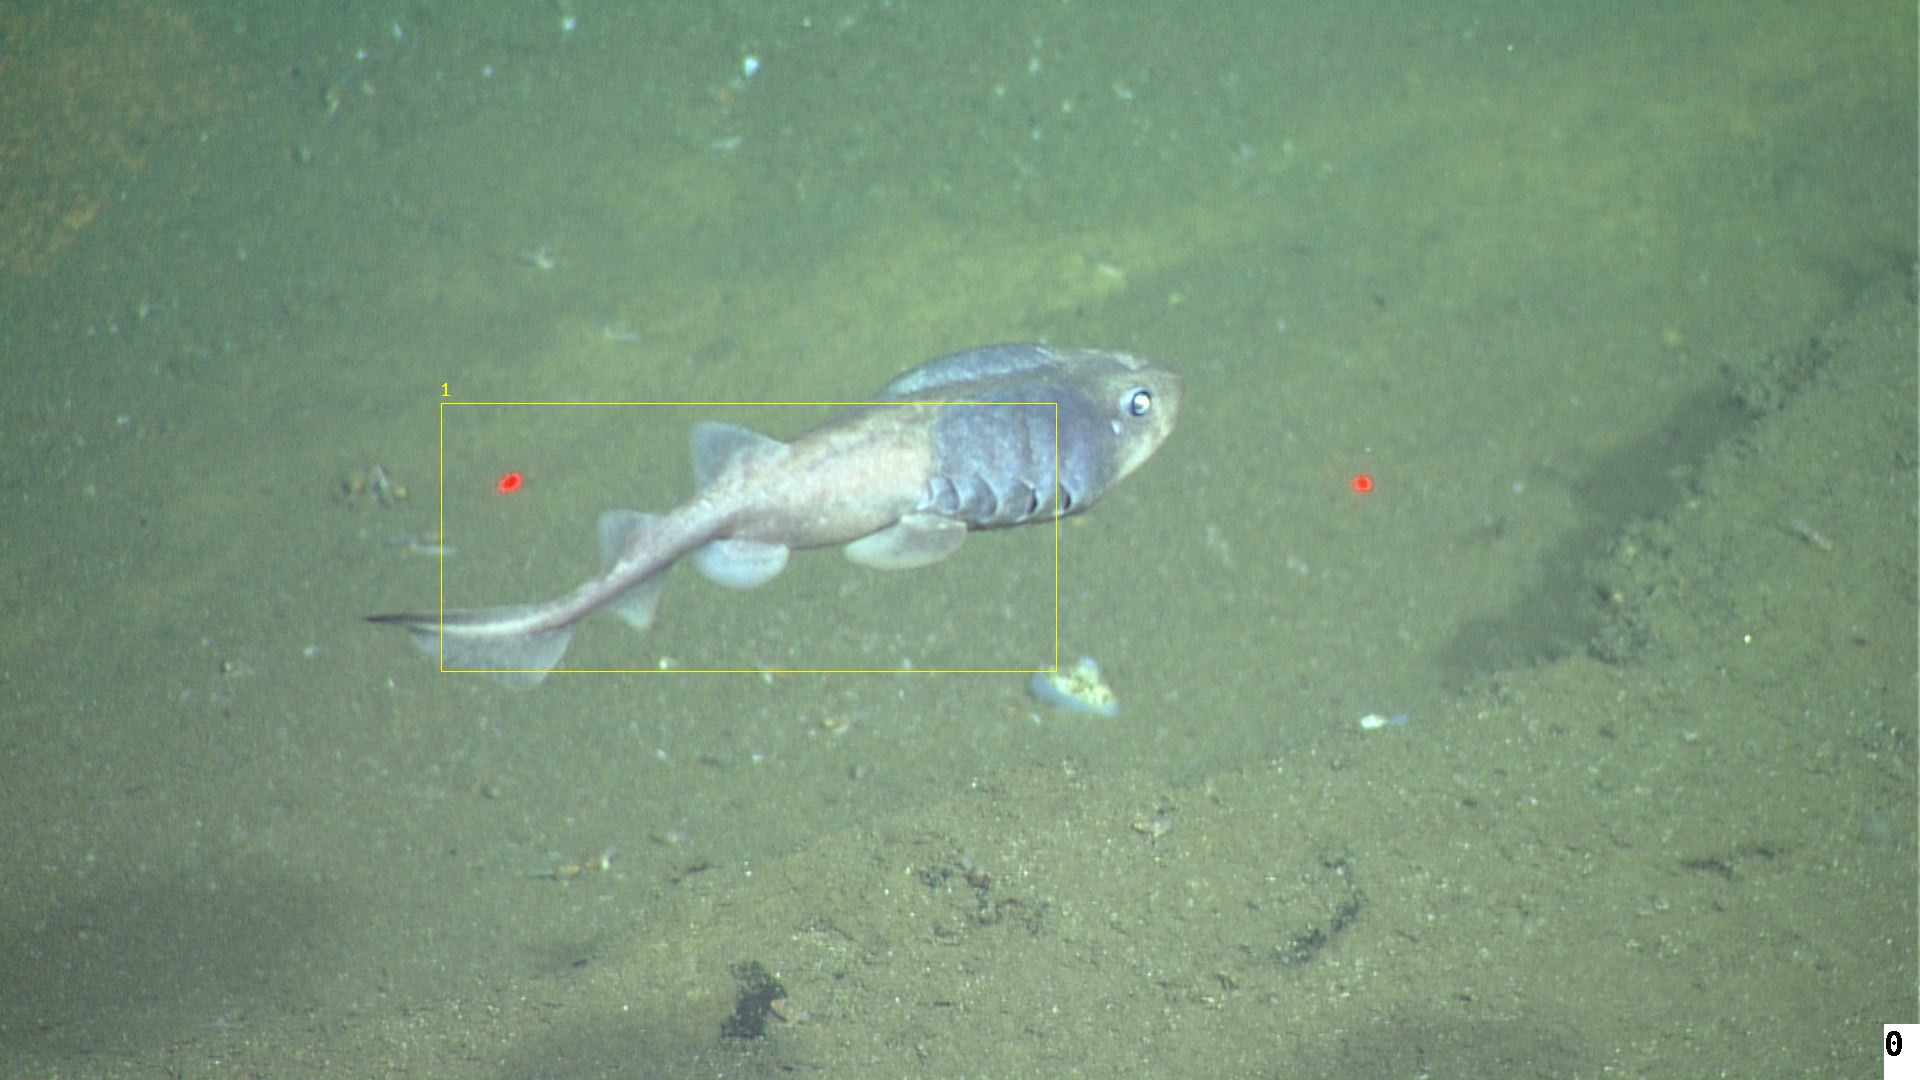shark: (301, 293, 1215, 696)
